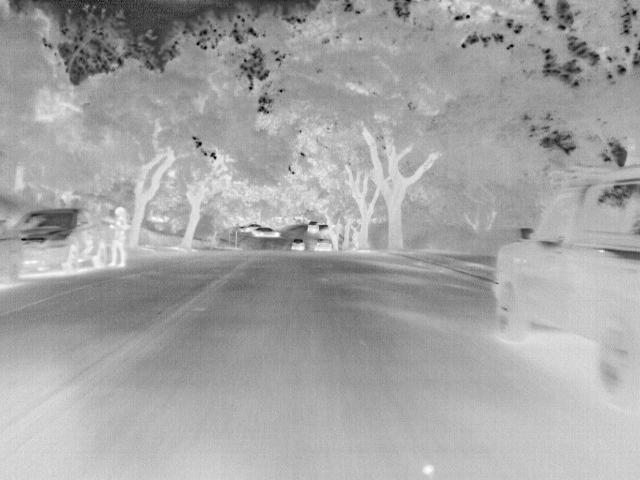car: (493, 162, 639, 410), (2, 208, 108, 275), (0, 216, 25, 284), (253, 227, 279, 238), (292, 238, 307, 252), (316, 240, 332, 252), (306, 220, 320, 232), (238, 222, 253, 233)
person: (109, 204, 128, 268)
